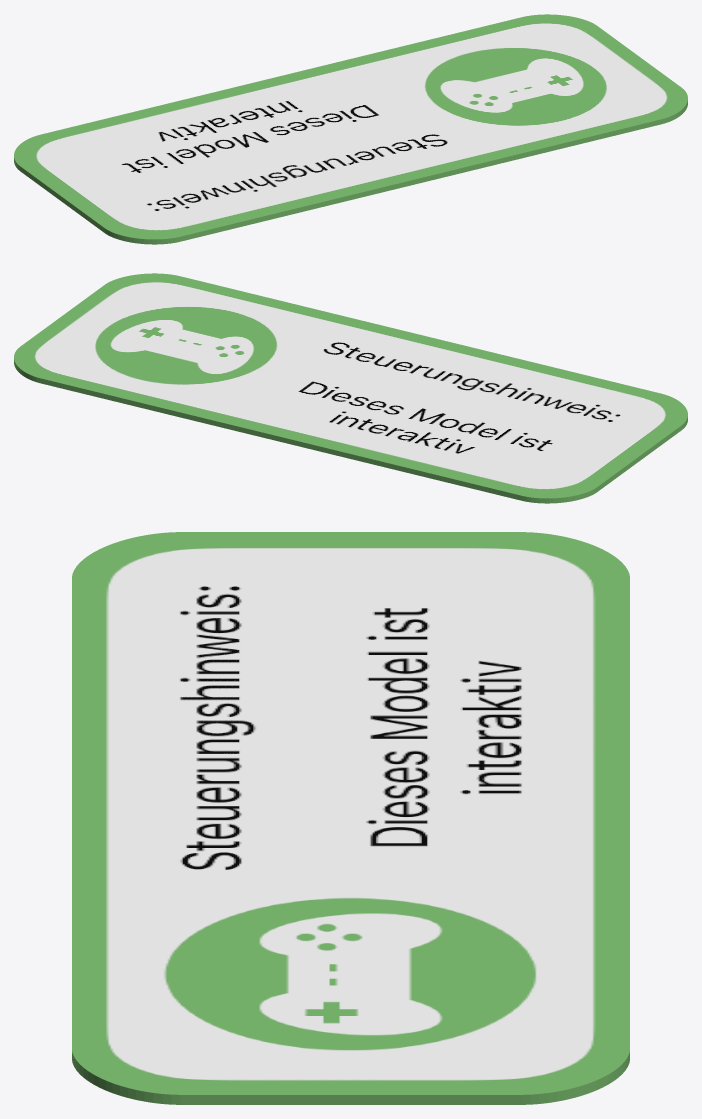
The model's file is Steuerungshinweis.fbx.
The picture shows the model from 3 angles, top to bottom: view 1: azimuth 30°, elevation 25°; view 2: azimuth 150°, elevation 25°; view 3: azimuth 270°, elevation 25°; orthographic projection. The views are drawn at different scales.
Visible parts, largest first — view 1: Cube; view 2: Cube; view 3: Cube.
Boxes of the visible parts, box(x1,y1,x2,y2) form: Cube: box(14, 14, 687, 244); Cube: box(14, 273, 687, 503); Cube: box(72, 532, 629, 1104).
Bounding box in the file's own units: 523 × 4.36 × 219.
1 material, 1 textured.
